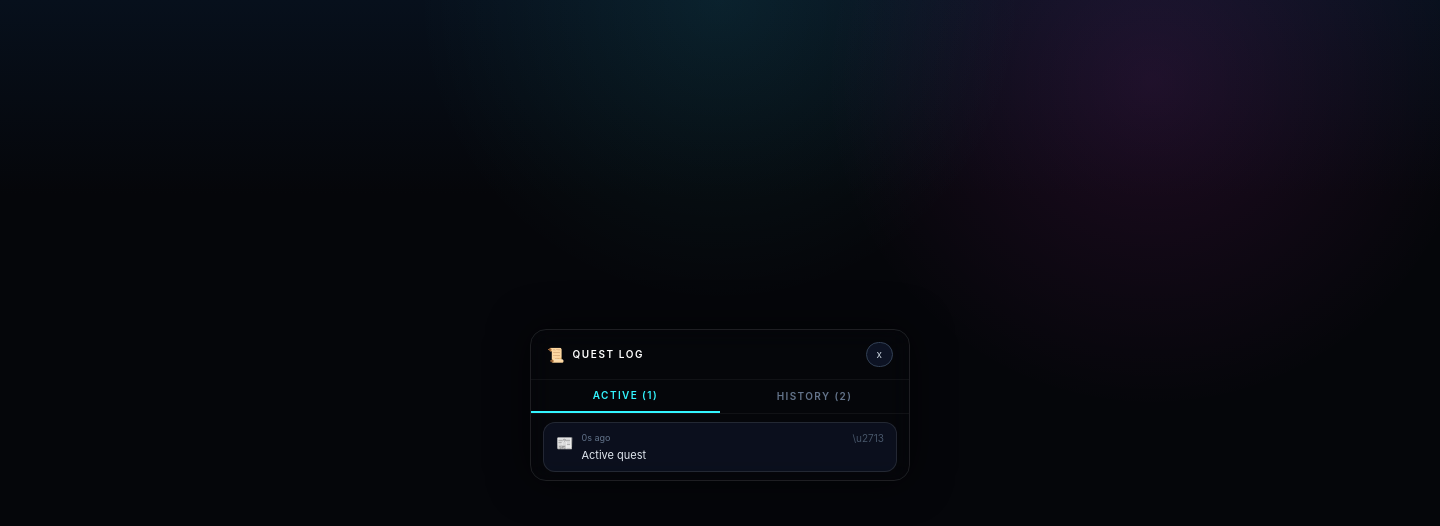
QuestLog › switching to History tab shows all entries
Expected: the text "Active quest" is shown, top-left (582, 448), bottom-right (646, 462)
Expected: the text "Past quest" is not shown
Note: Switch to history
What coordinates should you click on to do the following:
click the button "History (2)"
I would click on:
 (814, 396)
Its box is top-left (720, 380), bottom-right (909, 413).
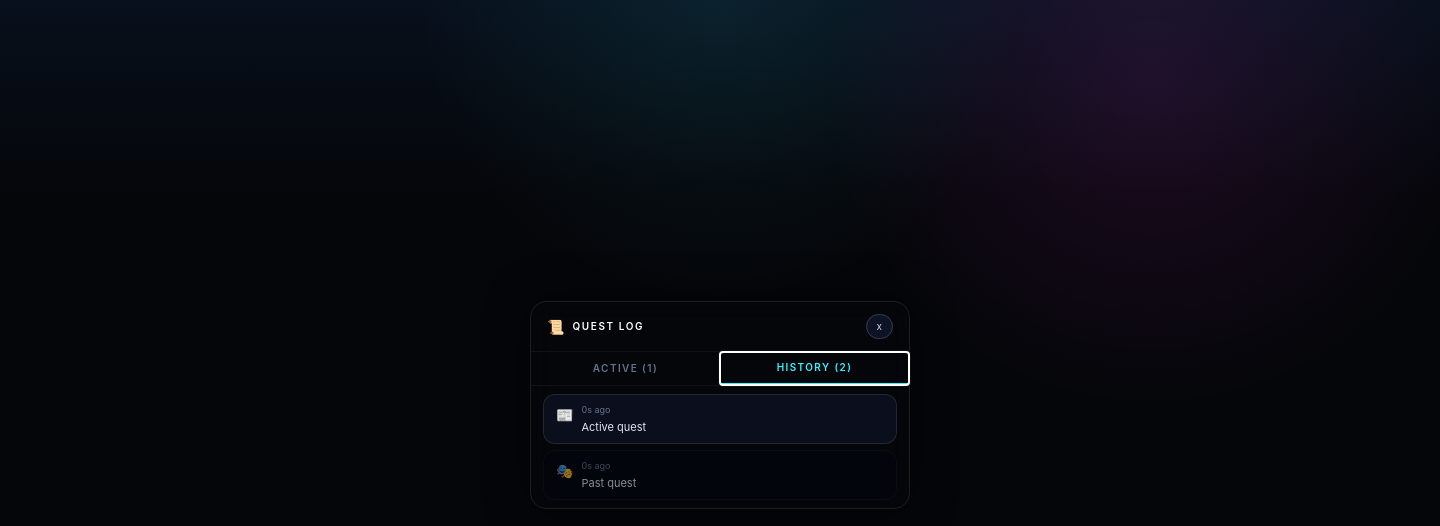
Expected: the text "Active quest" is shown, top-left (582, 420), bottom-right (646, 434)
Expected: the text "Past quest" is shown, top-left (582, 476), bottom-right (636, 490)
